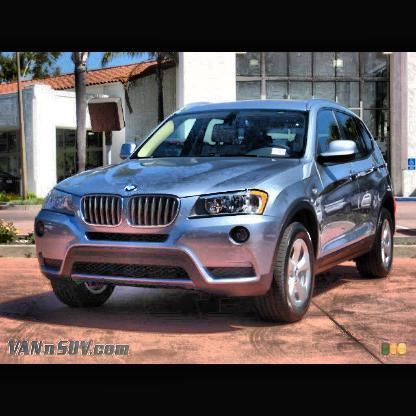BMW X3 SUV 2012: (34, 97, 399, 327)
